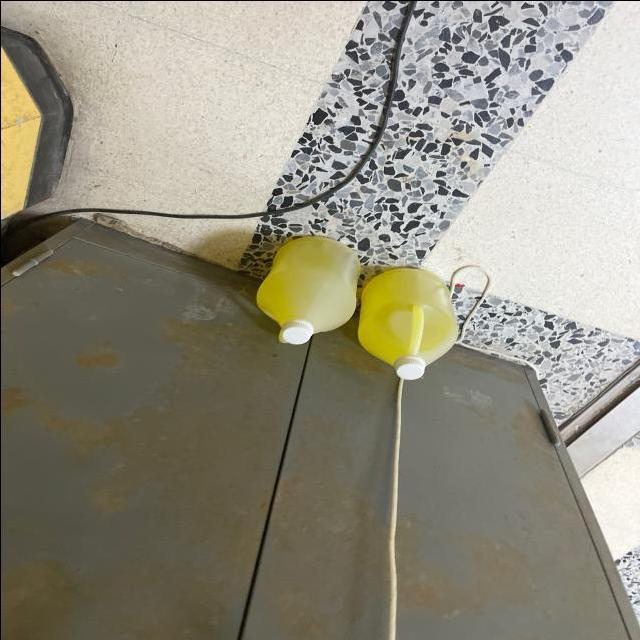HDPE Plastic: (251, 219, 359, 347), (364, 261, 466, 384)
